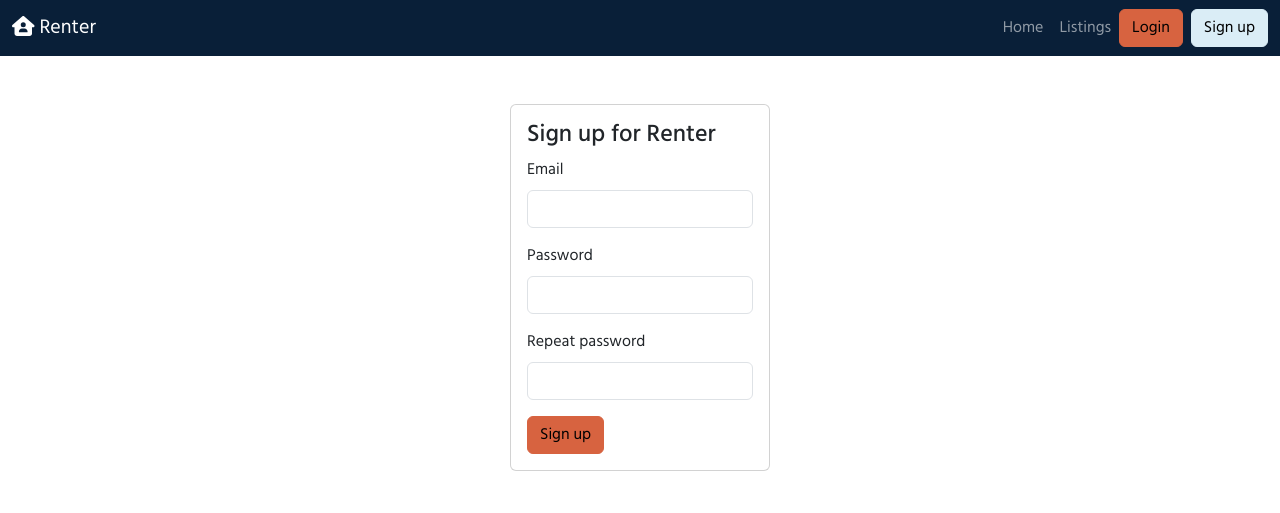
Test: sign up errors are shown when the account cannot be created
The image size is (1280, 513).
Type "test@example.com" into the field named "email" at (640, 209), box [527,190,753,228]
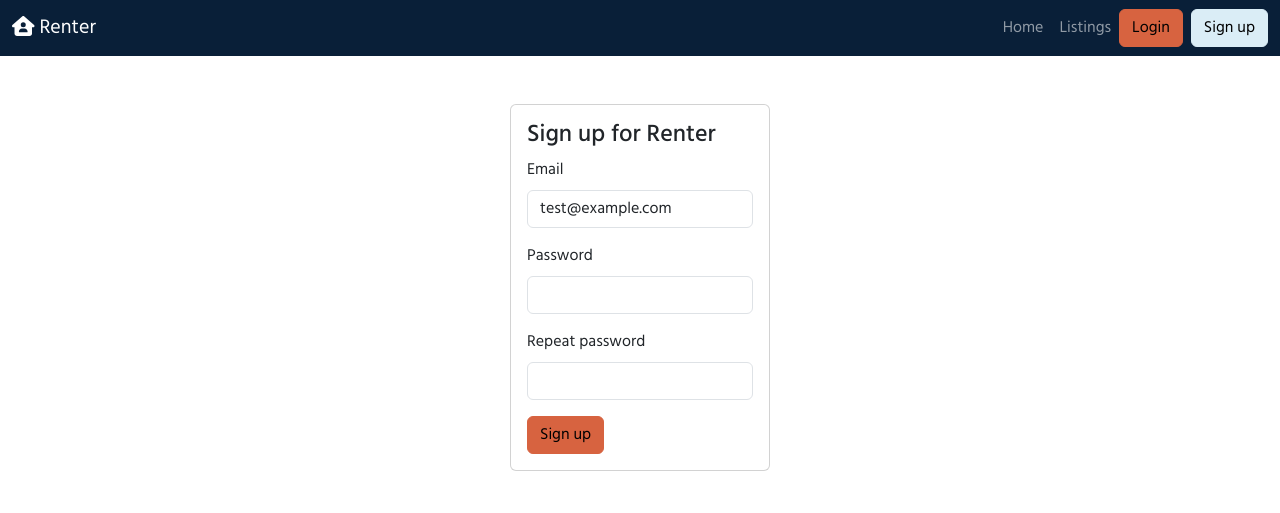
Type "test" into the password field named "password" at (640, 295), box [527,276,753,314]
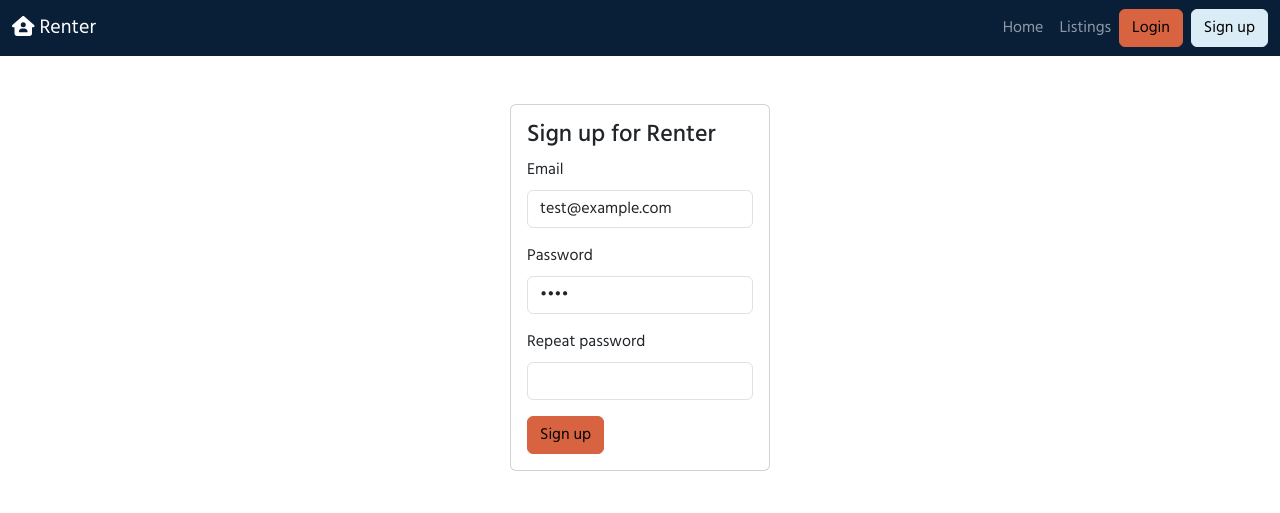
Type "test" into the password field named "repeatPassword" at (640, 381), box [527,362,753,400]
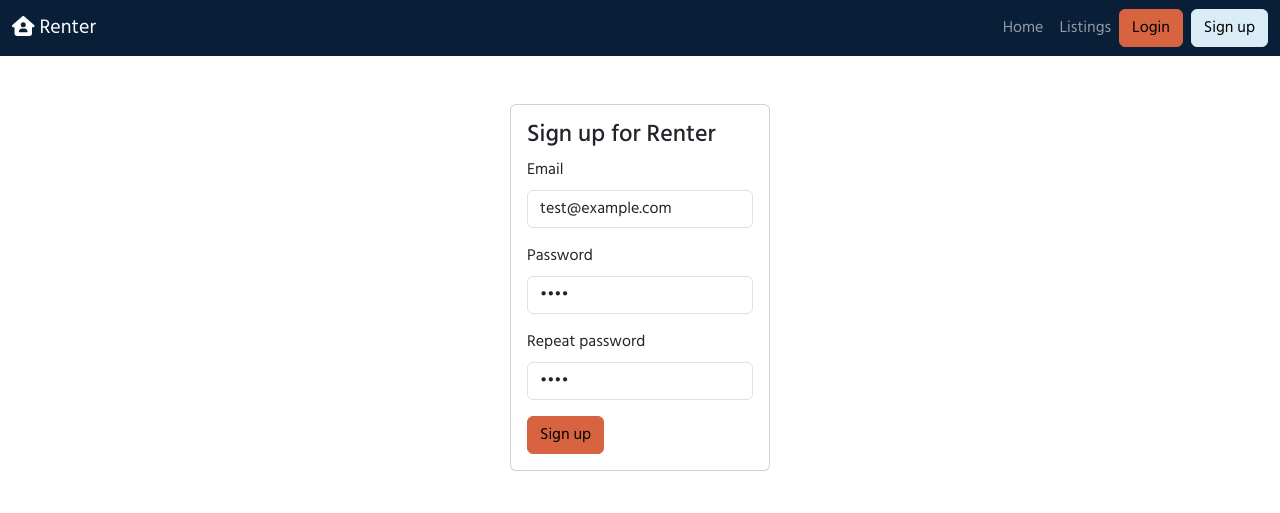
Submit the form, box [511,105,769,470]
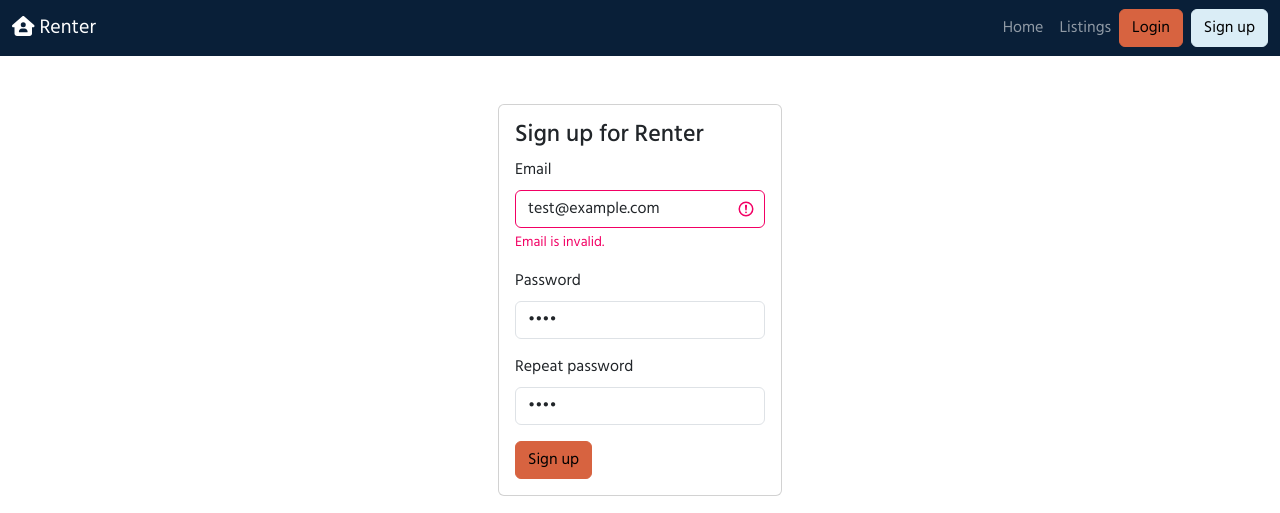
Check: the element with id "emailValidationFeedback" reads "Email is invalid.", box [515,231,604,254]
